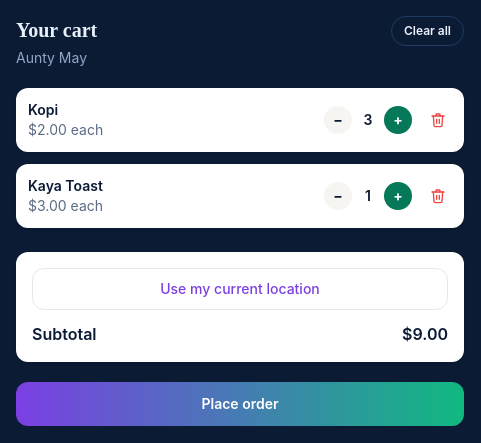
Test: CartView remove + clear all › removing the last line empties the cart
Click the button named "Remove Kopi from cart": {"x": 438, "y": 120} [424,106,452,134]
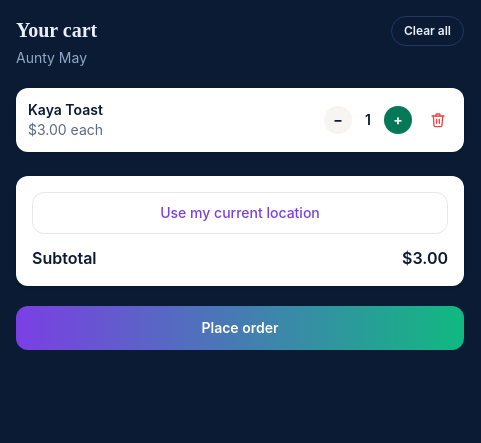
Click the button named "Remove Kaya Toast from cart": {"x": 438, "y": 120} [424,106,452,134]
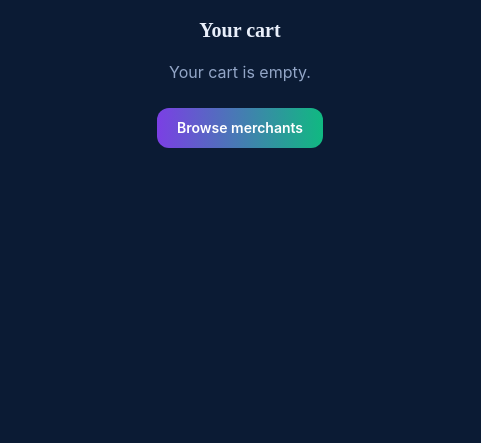
Now the text "Your cart is empty." is shown, box [169,62,311,82]
